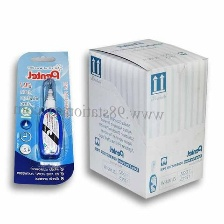book: (84, 35, 209, 202), (11, 47, 75, 187)
correction_fluid: (36, 76, 63, 161)
